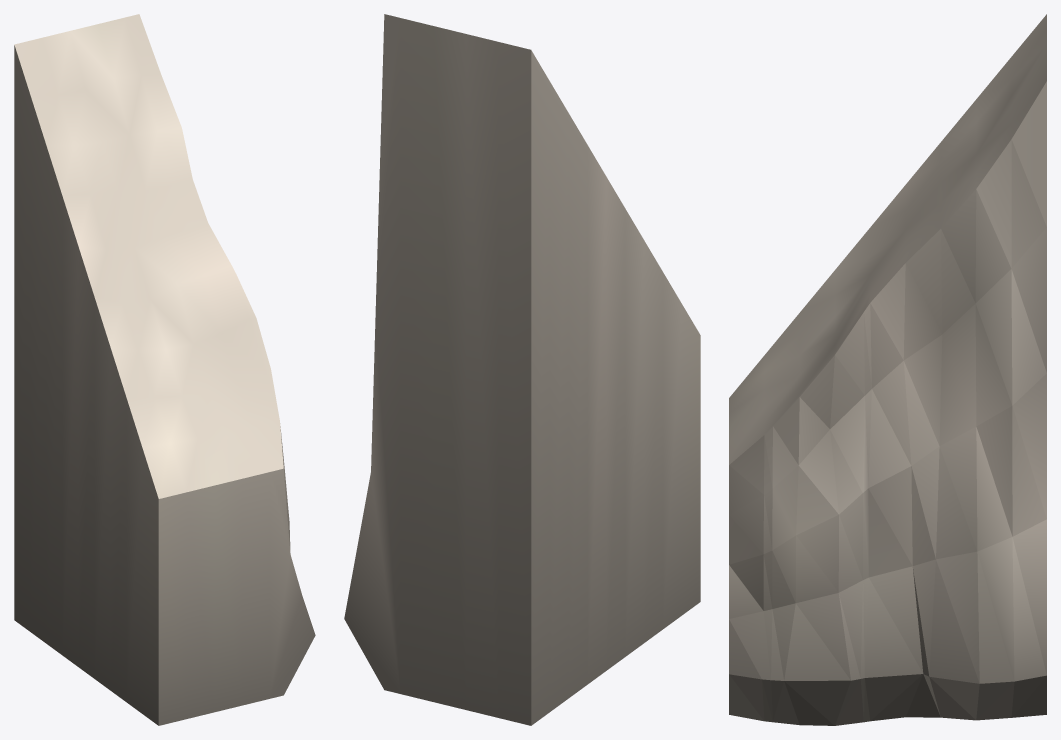
Rendered from SM_VKI_Rock_Cave_COOF_A.fbx.
The picture shows the model from 3 angles, left to right: view 1: azimuth 30°, elevation 25°; view 2: azimuth 150°, elevation 25°; view 3: azimuth 270°, elevation 25°; orthographic projection. The views are drawn at different scales.
Visible parts, largest first — view 1: SM_VKI_Rock_Cave_COOF_A.001; view 2: SM_VKI_Rock_Cave_COOF_A.001; view 3: SM_VKI_Rock_Cave_COOF_A.001.
Boxes of the visible parts, x1,y1,x2,y2 form: SM_VKI_Rock_Cave_COOF_A.001: [14, 14, 315, 725]; SM_VKI_Rock_Cave_COOF_A.001: [344, 14, 700, 725]; SM_VKI_Rock_Cave_COOF_A.001: [729, 14, 1046, 725].
Size of the model in its own units: 1.05 by 3.3 by 1.5.
